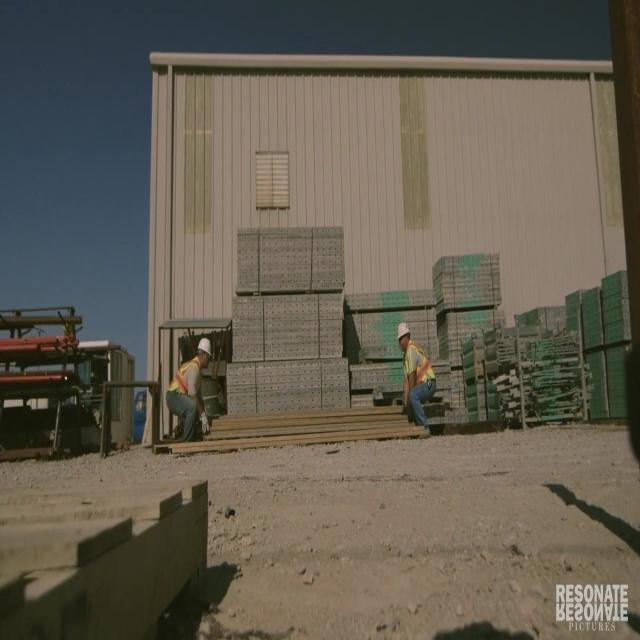helmet: (197, 448, 212, 472), (396, 429, 410, 454)
vest: (403, 454, 438, 510), (165, 478, 199, 526)
